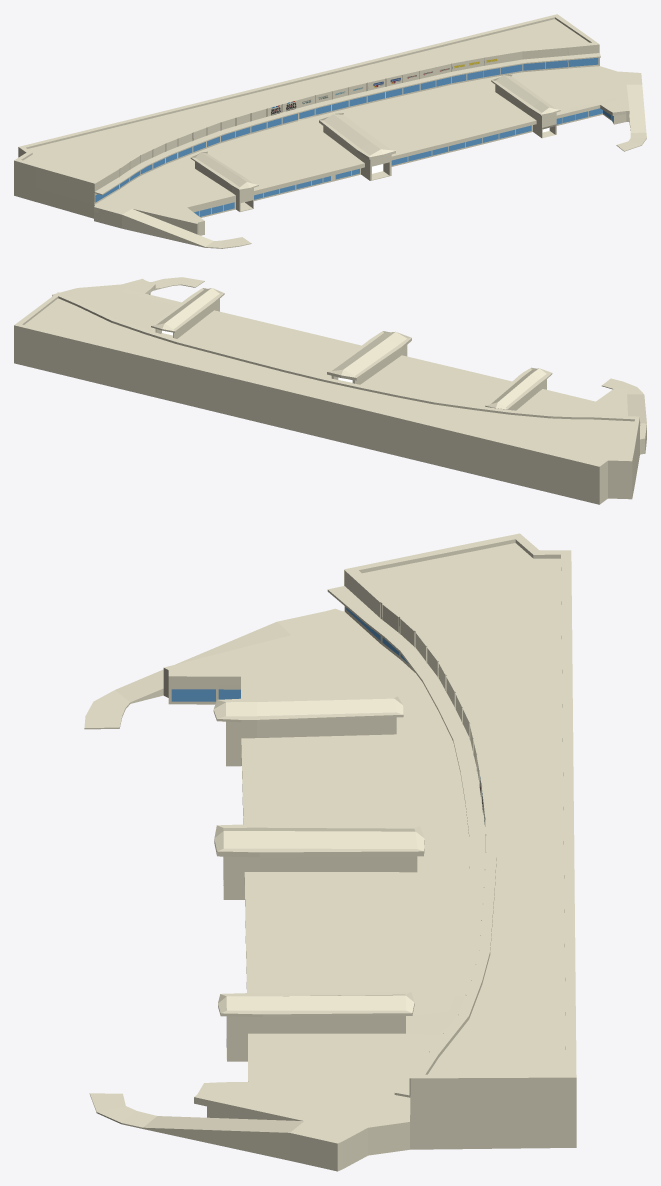
The model's file is woonboulevardv6.glb.
3 renders of one model, top to bottom at view 1: azimuth 30°, elevation 25°; view 2: azimuth 150°, elevation 25°; view 3: azimuth 270°, elevation 25°, orthographic. The views are drawn at different scales.
Parts seen in each view (by area): view 1: 548211239.001; view 2: 548211239.001; view 3: 548211239.001.
Boxes of the visible parts, bbox=[...] form: 548211239.001: bbox=[14, 14, 646, 248]; 548211239.001: bbox=[14, 277, 646, 504]; 548211239.001: bbox=[84, 533, 576, 1171].
Bounding box in the file's own units: 1825 × 107 × 668.
4 materials, 1 textured.
